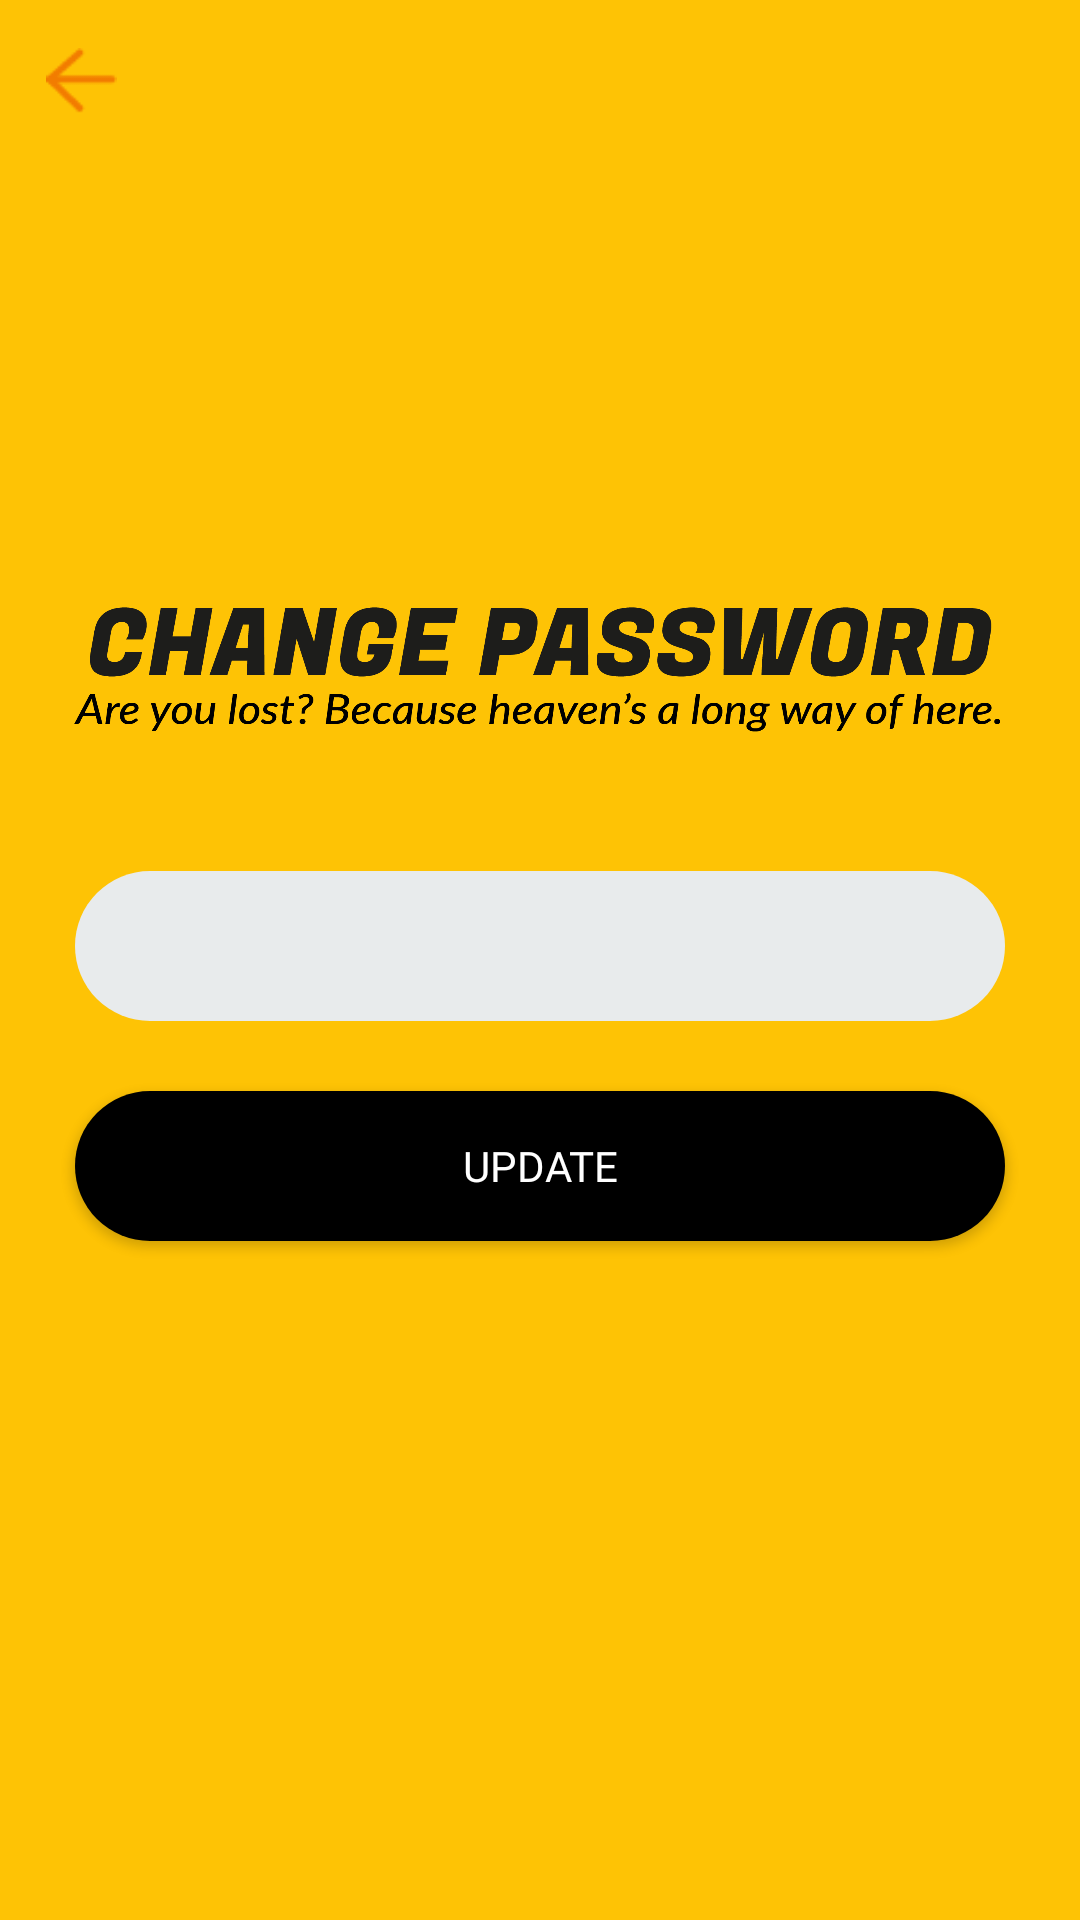

Point at icon controls on the screen. Image size 1080 × 1920, points as point (x, y).
back: point (81, 80)
